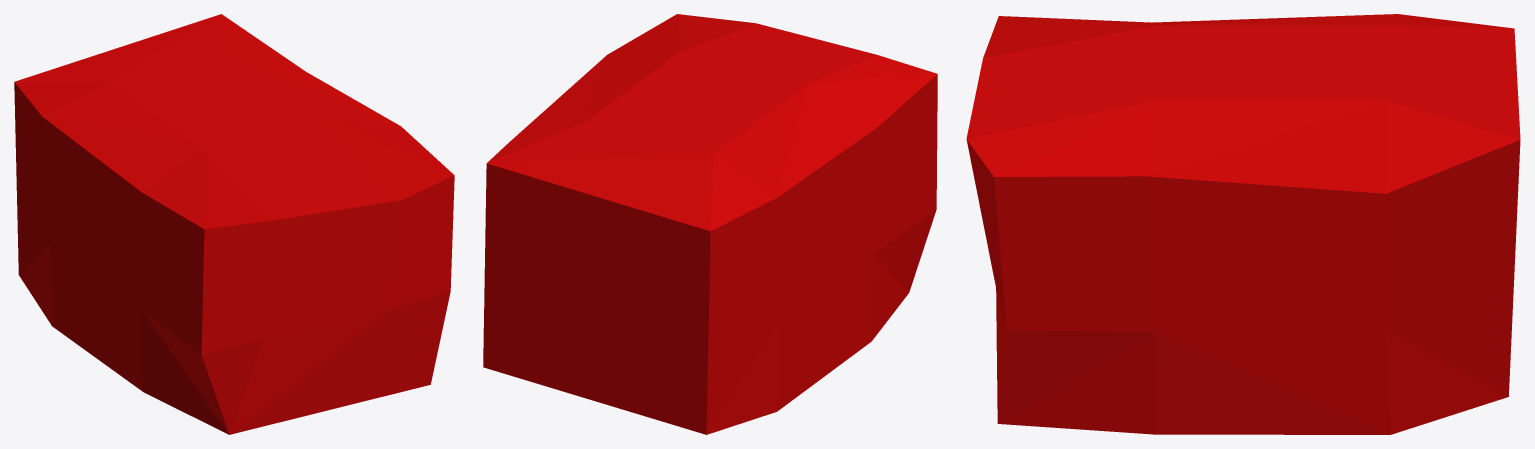
3 renders of one model, left to right at view 1: azimuth 30°, elevation 25°; view 2: azimuth 150°, elevation 25°; view 3: azimuth 270°, elevation 25°, orthographic. The views are drawn at different scales.
Parts seen in each view (by area): view 1: Mesh; view 2: Mesh; view 3: Mesh.
Boxes of the visible parts, box(x1,y1,x2,y2) form: Mesh: box(14, 14, 454, 434); Mesh: box(483, 14, 937, 434); Mesh: box(966, 14, 1520, 434).
Size of the model in its own units: 0.7807 by 0.6725 by 1.13.
